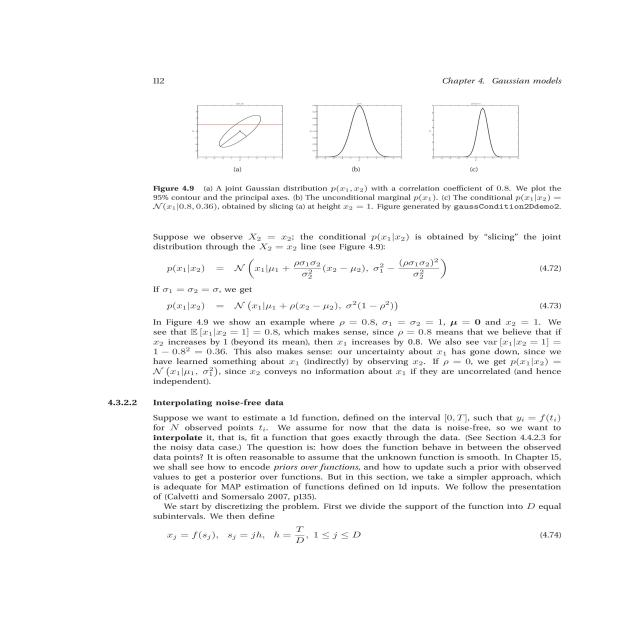diagram: (125, 93, 640, 216)
